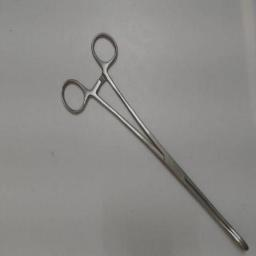Sponge Forceps: (55, 27, 253, 255)
